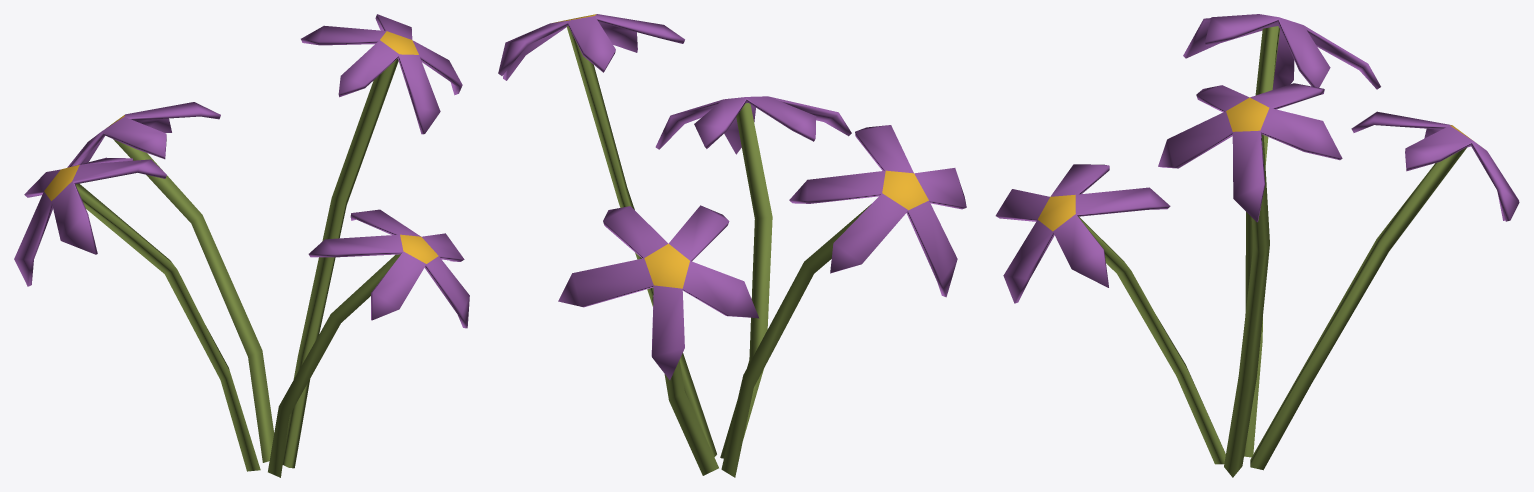
The model's file is rpgpp_ag_flower_02b 1.fbx.
3 views of the same model, side by side, from view 1: azimuth 30°, elevation 25°; view 2: azimuth 150°, elevation 25°; view 3: azimuth 270°, elevation 25° (orthographic). The views are drawn at different scales.
Parts seen in each view (by area): view 1: rpgpp_ag_flower_02b; view 2: rpgpp_ag_flower_02b; view 3: rpgpp_ag_flower_02b.
Part boxes in pixels (x1=…): rpgpp_ag_flower_02b: x1=14, y1=14, x2=469, y2=477; rpgpp_ag_flower_02b: x1=498, y1=14, x2=966, y2=477; rpgpp_ag_flower_02b: x1=995, y1=14, x2=1519, y2=477.
Bounding box in the file's own units: 1.01 × 0.9046 × 1.
